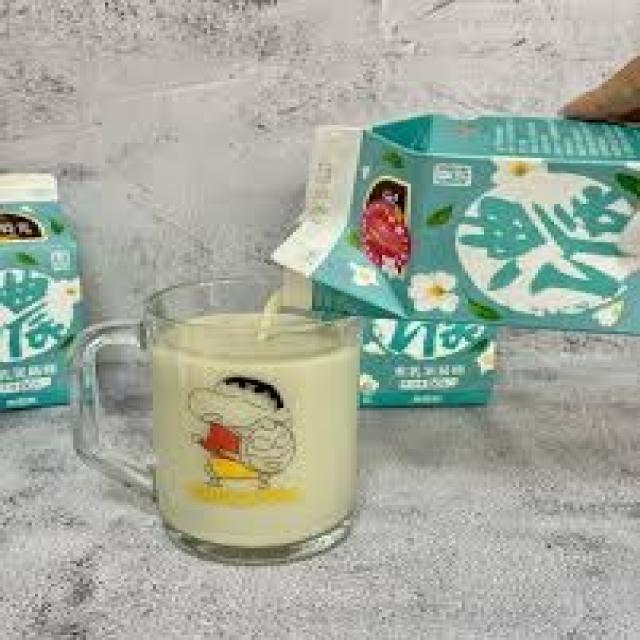Known_MilkGreenTea: (306, 118, 636, 327), (0, 176, 63, 411), (357, 322, 494, 402)
